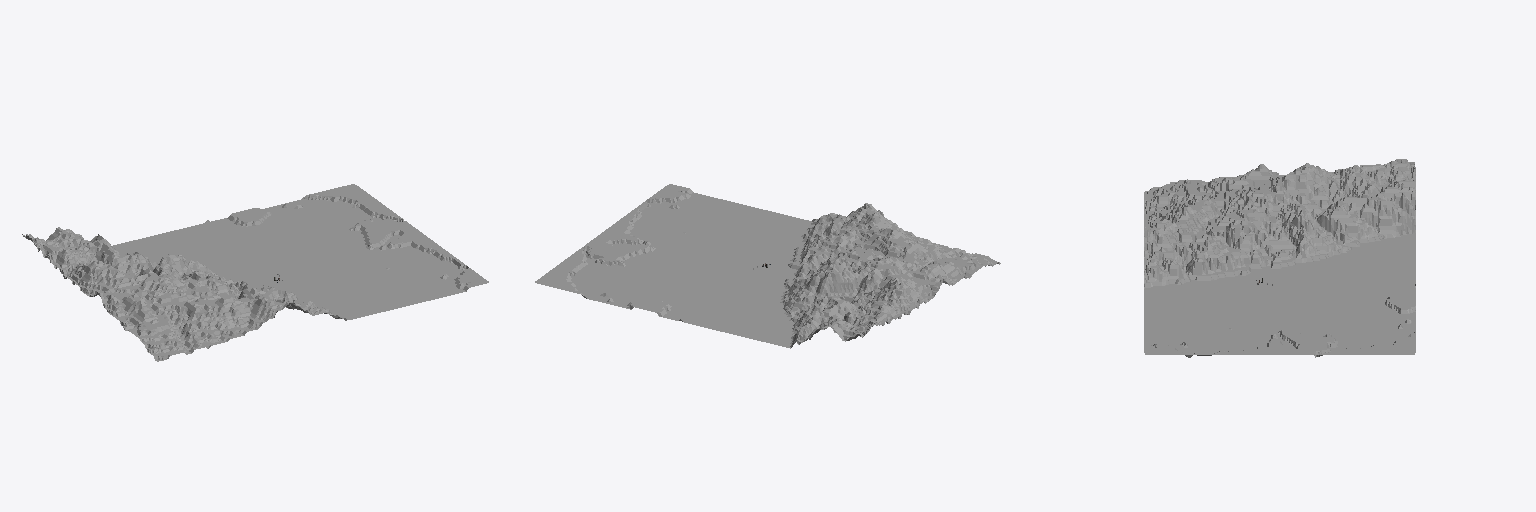
Rendered from portland.obj.
3 renders of one model, left to right at view 1: azimuth 30°, elevation 25°; view 2: azimuth 150°, elevation 25°; view 3: azimuth 270°, elevation 25°, orthographic.
Visible parts, largest first — view 1: PortlandAriel_Plane; view 2: PortlandAriel_Plane; view 3: PortlandAriel_Plane.
Boxes of the visible parts, <box> form: PortlandAriel_Plane: <box>22,184,488,361</box>; PortlandAriel_Plane: <box>535,184,1000,348</box>; PortlandAriel_Plane: <box>1144,159,1415,357</box>.
Bounding box in the file's own units: 1.34 × 0.1608 × 0.9488.